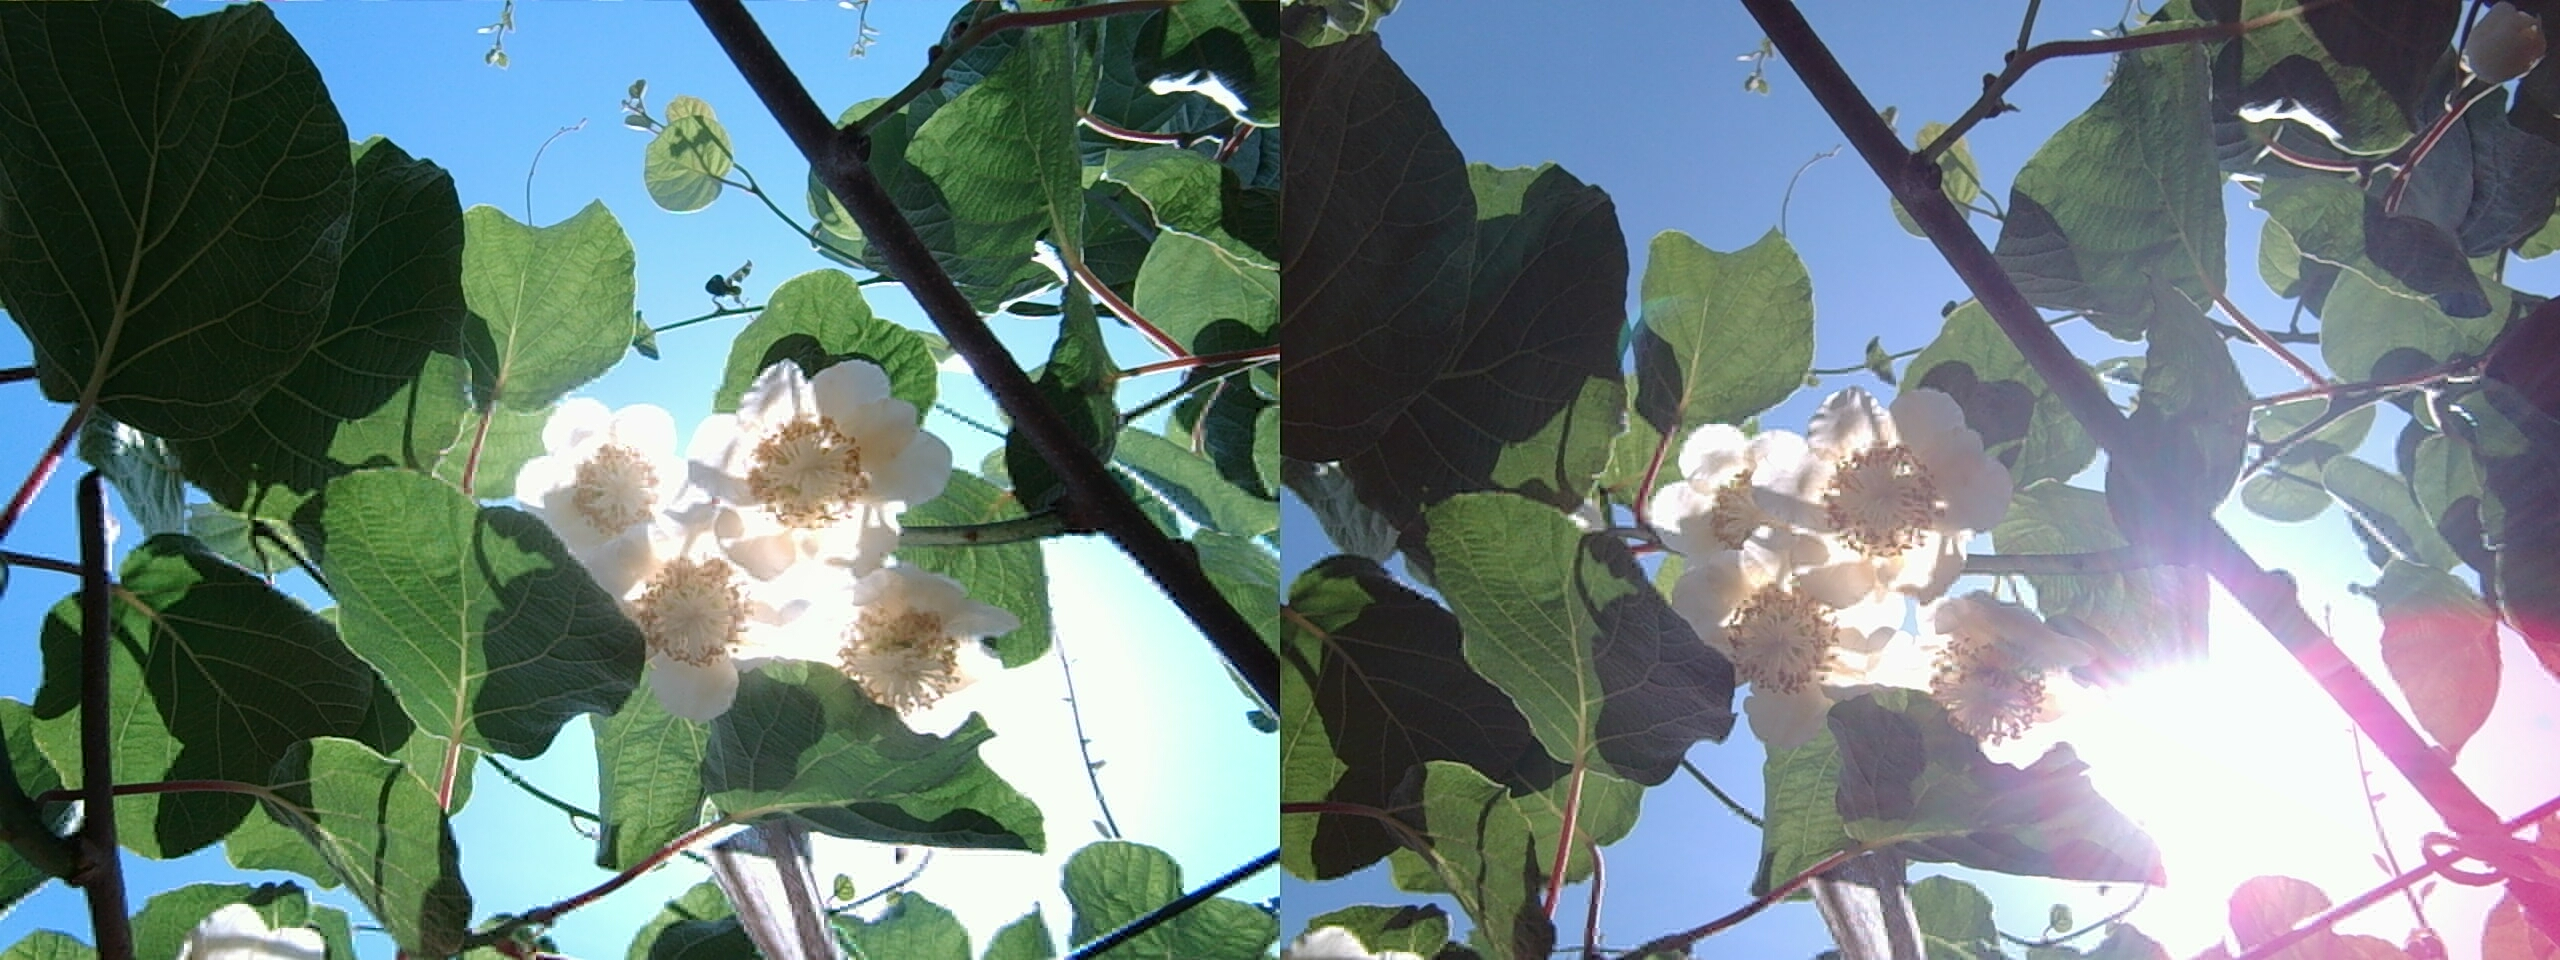flower: (1763, 379, 2003, 598), (691, 354, 945, 557), (580, 506, 811, 712), (1664, 549, 1922, 731), (790, 562, 1025, 731), (501, 403, 694, 568), (1633, 431, 1816, 573)
